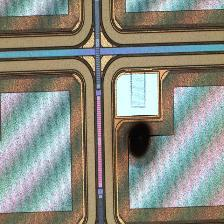PARTICLE: (115, 115, 167, 167)
